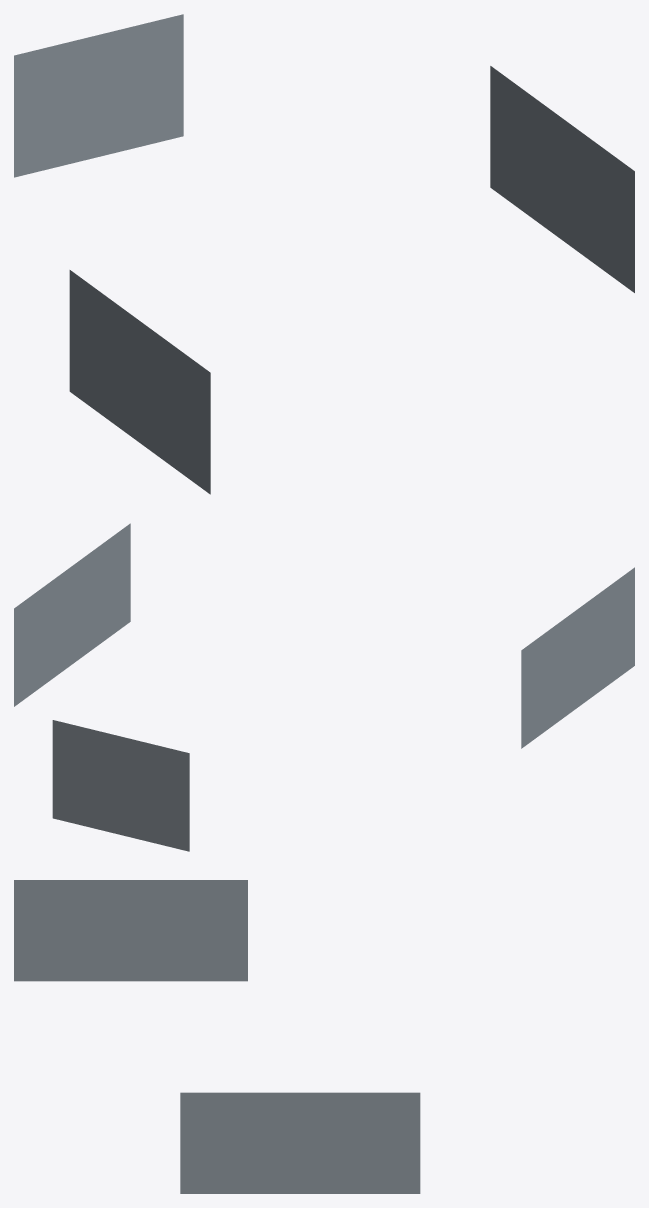
File: SM_Bld_SingleGarage_Glass.fbx
3 renders of one model, top to bottom at view 1: azimuth 30°, elevation 25°; view 2: azimuth 150°, elevation 25°; view 3: azimuth 270°, elevation 25°, orthographic. The views are drawn at different scales.
Visible parts, largest first — view 1: SM_Bld_SingleGarage_Glass; view 2: SM_Bld_SingleGarage_Glass; view 3: SM_Bld_SingleGarage_Glass.
Boxes of the visible parts, left/top/right/bottom form: SM_Bld_SingleGarage_Glass: left=14, top=14, right=634, bottom=494; SM_Bld_SingleGarage_Glass: left=14, top=523, right=634, bottom=851; SM_Bld_SingleGarage_Glass: left=14, top=880, right=420, bottom=1193.
Size of the model in its own units: 469 by 104 by 580.
